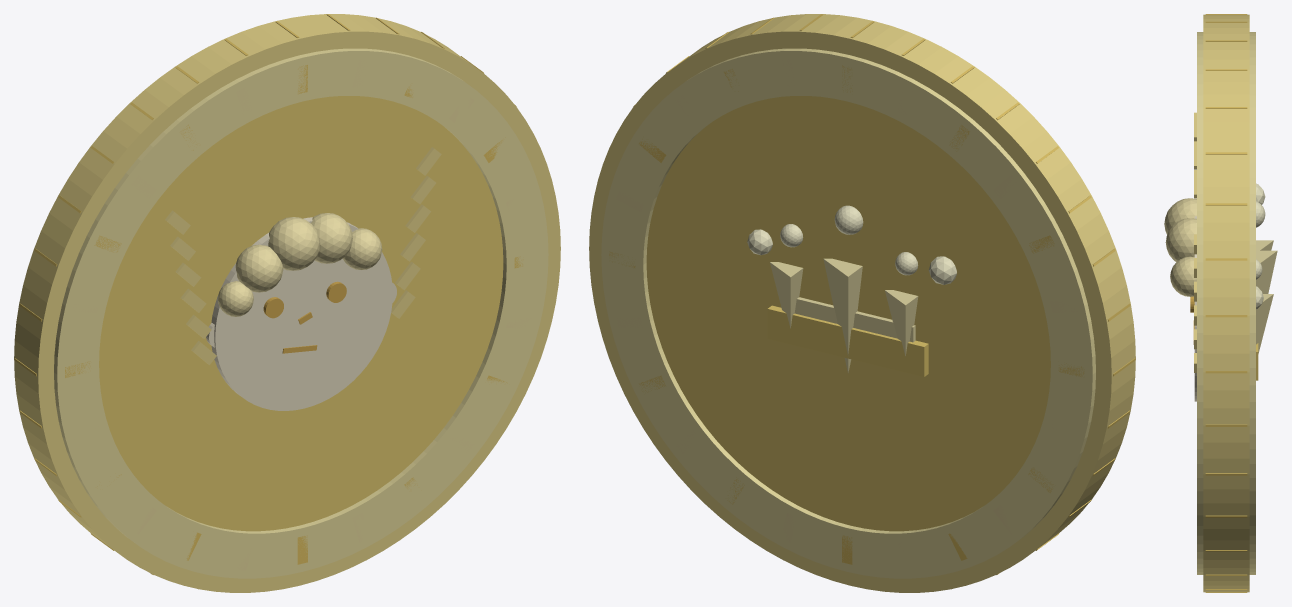
Rendered from moeda_cartoon_detalhada.glb.
3 views of the same model, side by side, from view 1: azimuth 30°, elevation 25°; view 2: azimuth 150°, elevation 25°; view 3: azimuth 270°, elevation 25° (orthographic). The views are drawn at different scales.
Parts seen in each view (by area): view 1: part_0, part_2, part_1, part_36, part_40, part_39, part_41, part_42, part_43; view 2: part_0, part_3, part_1, part_62, part_66, part_63, part_68, part_64; view 3: part_1, part_2, part_3, part_41, part_42, part_40, part_66, part_68, part_67, part_64.
Boxes of the visible parts, <box> form: part_0: <box>99,96,503,531</box>; part_2: <box>54,48,548,578</box>; part_1: <box>14,14,560,592</box>; part_36: <box>211,217,392,410</box>; part_40: <box>268,217,319,270</box>; part_39: <box>235,244,283,292</box>; part_41: <box>310,213,352,263</box>; part_42: <box>342,228,382,269</box>; part_43: <box>217,281,253,316</box>; part_0: <box>646,96,1050,531</box>; part_3: <box>601,48,1095,578</box>; part_1: <box>589,14,1135,592</box>; part_62: <box>767,305,928,376</box>; part_66: <box>823,258,862,373</box>; part_63: <box>794,297,915,342</box>; part_68: <box>770,262,803,328</box>; part_64: <box>885,290,918,356</box>; part_1: <box>1203,14,1249,592</box>; part_2: <box>1197,32,1203,574</box>; part_3: <box>1249,32,1255,574</box>; part_41: <box>1165,218,1196,262</box>; part_42: <box>1170,256,1196,296</box>; part_40: <box>1164,198,1196,234</box>; part_66: <box>1256,250,1277,293</box>; part_68: <box>1256,294,1273,353</box>; part_67: <box>1256,201,1265,227</box>; part_64: <box>1256,240,1273,250</box>.
Size of the model in its own units: 2.01 by 2.01 by 0.3923.
